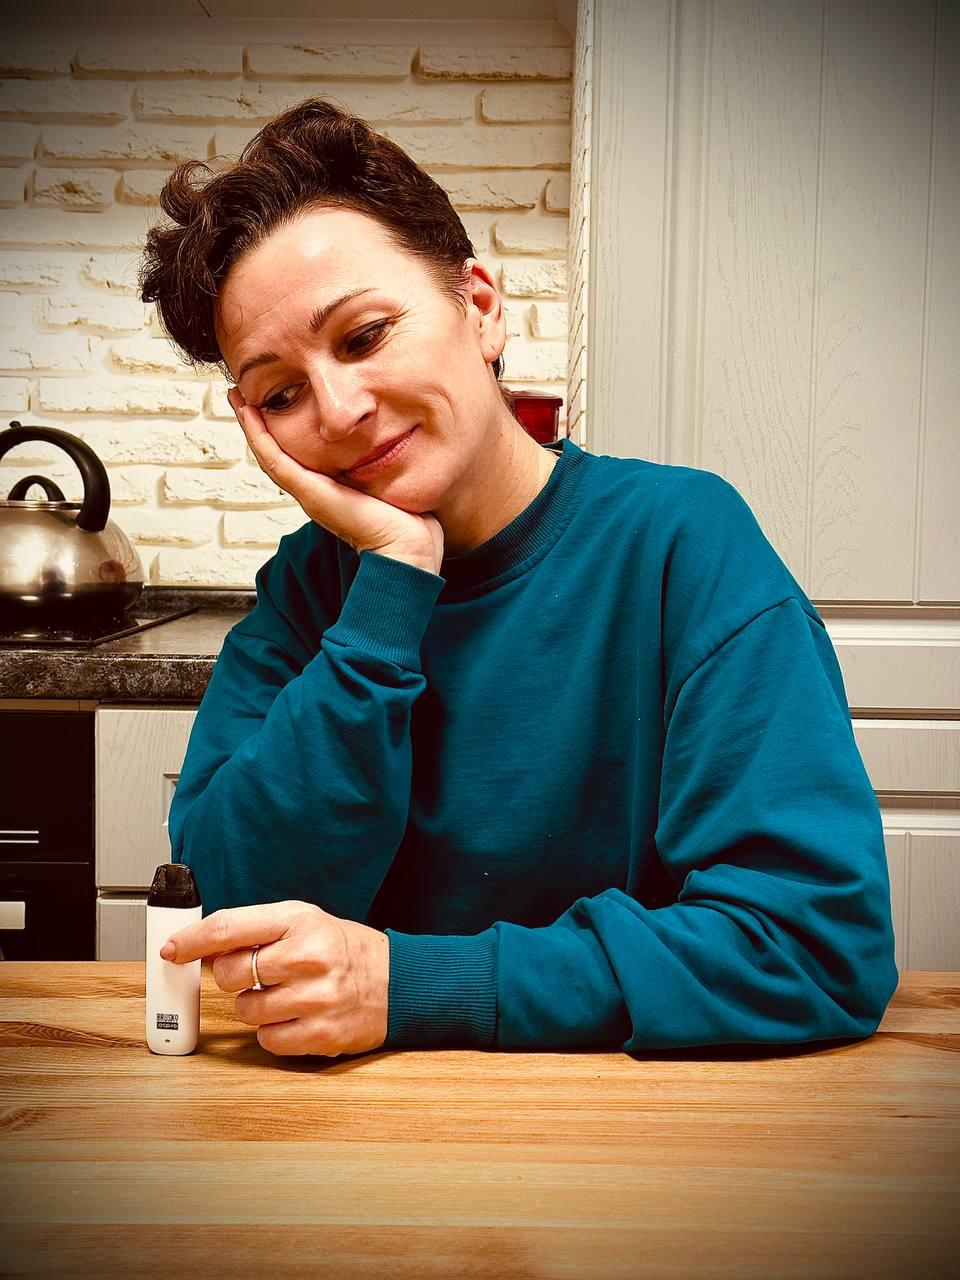Vape: (147, 864, 202, 1055)
